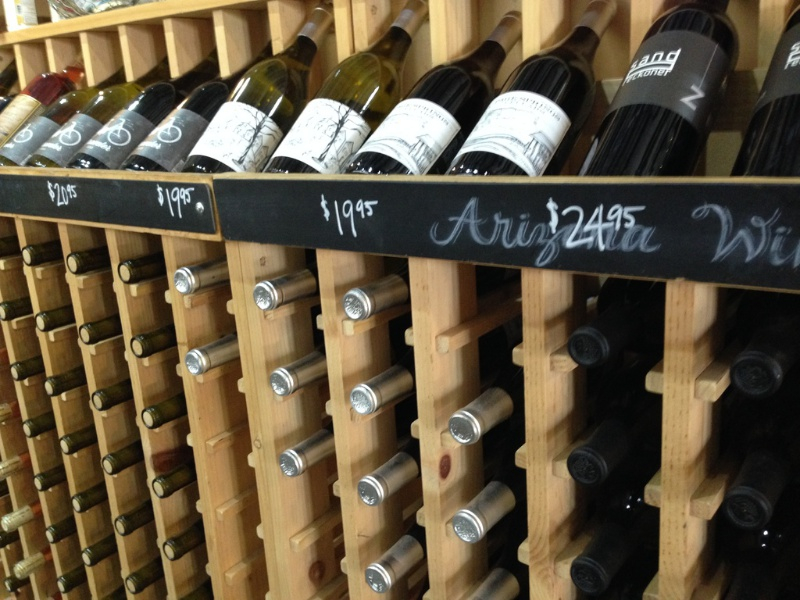wine: (2, 207, 795, 600), (3, 1, 797, 185)
